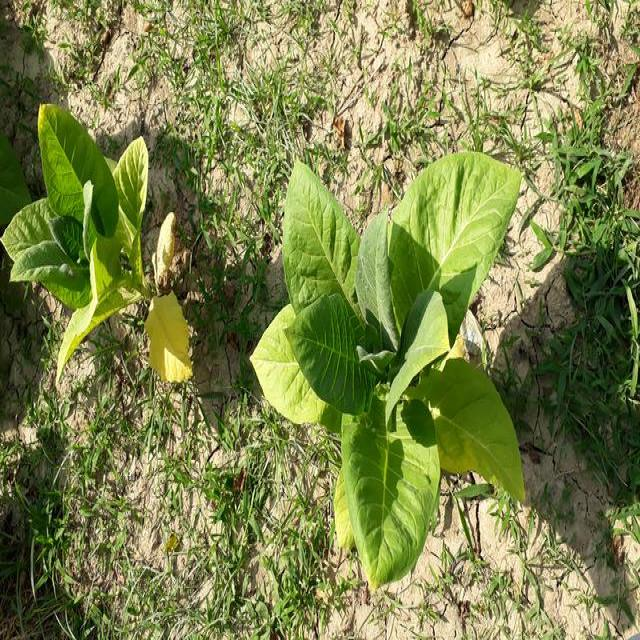crop: (258, 158, 516, 587), (2, 107, 191, 380)
